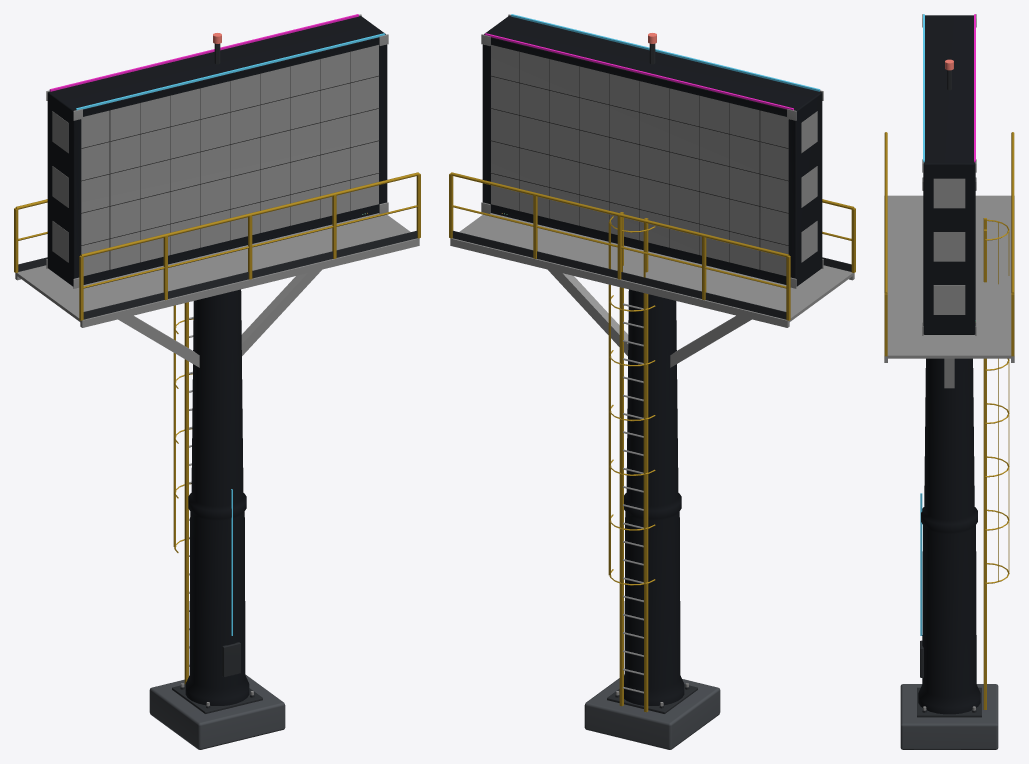
Rendered from Billboard_Pole_Double.fbx.
The picture shows the model from 3 angles, left to right: view 1: azimuth 30°, elevation 25°; view 2: azimuth 150°, elevation 25°; view 3: azimuth 270°, elevation 25°; orthographic projection. The views are drawn at different scales.
Parts seen in each view (by area): view 1: Billboard_Pole_Double_LOD0; view 2: Billboard_Pole_Double_LOD0; view 3: Billboard_Pole_Double_LOD0.
Boxes of the visible parts, x1,y1,x2,y2 form: Billboard_Pole_Double_LOD0: [14, 14, 420, 749]; Billboard_Pole_Double_LOD0: [449, 14, 855, 749]; Billboard_Pole_Double_LOD0: [884, 14, 1014, 749].
Size of what is drawn, in the model's own units: 5.85 by 11.3 by 2.
